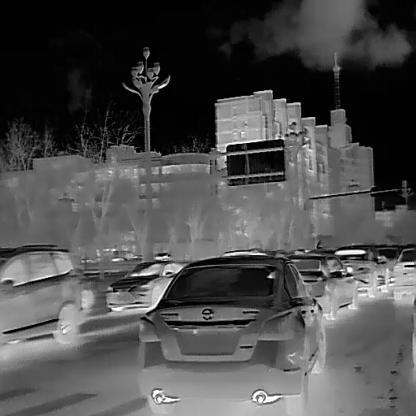car: (135, 255, 327, 415), (0, 242, 83, 349), (287, 249, 358, 326), (103, 259, 183, 312), (334, 244, 378, 301), (391, 246, 415, 302)
